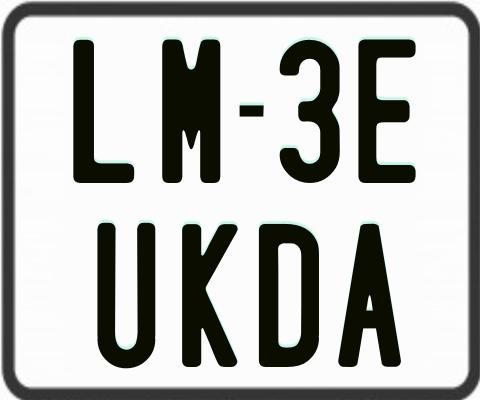3: (277, 40, 338, 184)
A: (337, 221, 404, 365)
D: (258, 222, 318, 367)
E: (355, 36, 415, 185)
K: (182, 221, 239, 366)
L: (72, 37, 137, 180)
M: (160, 38, 223, 183)
U: (96, 221, 157, 369)
